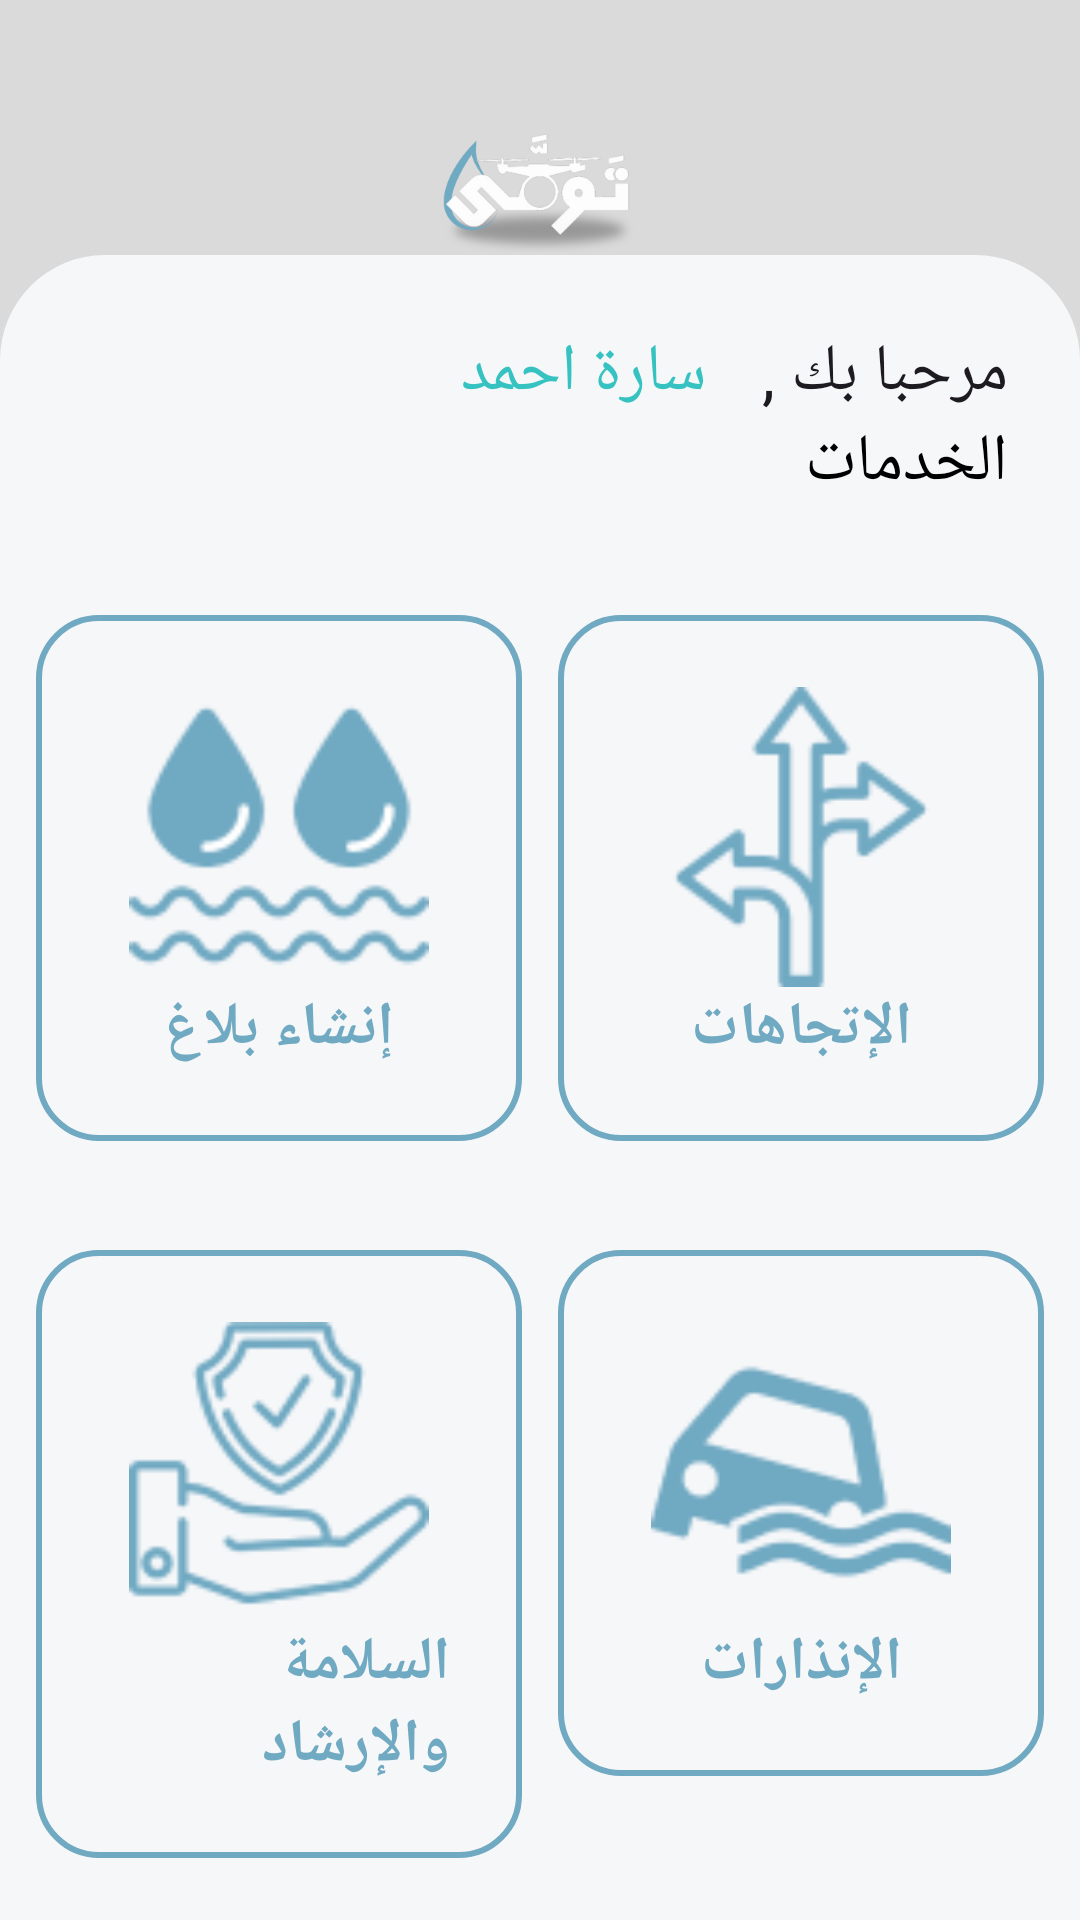

Point at icon controls on the screen. Image size 1080px×1920px, points as [x,y].
helping: [279,1463]
